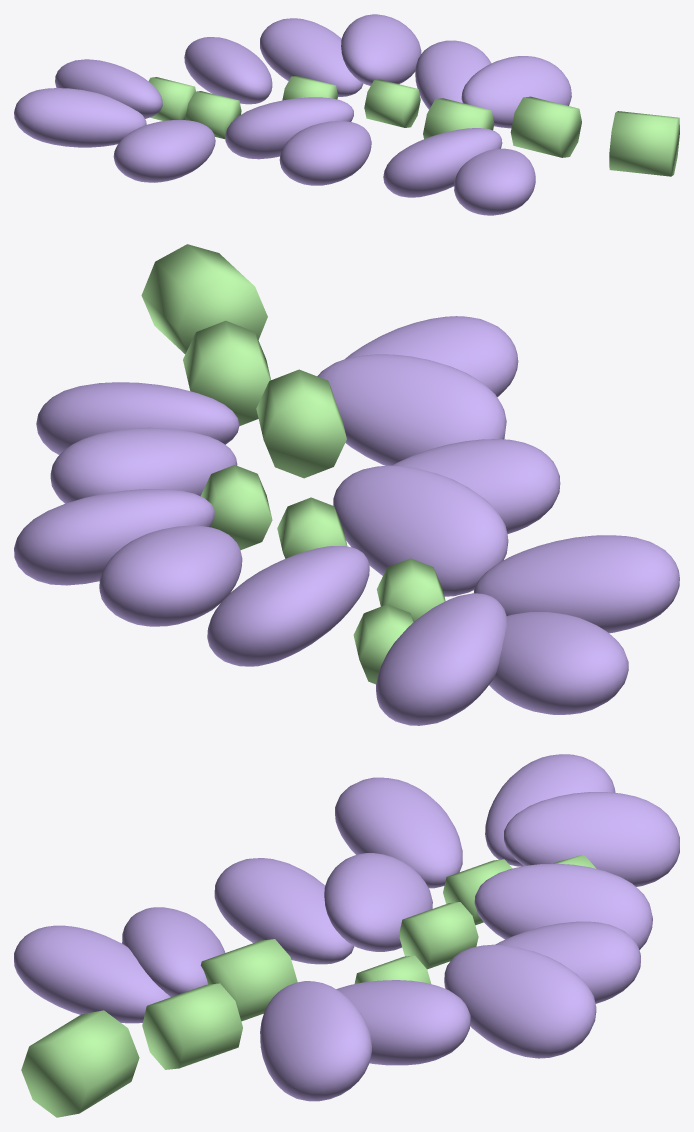
Rendered from LavandaSlice.fbx.
3 views of the same model, one above another, from view 1: azimuth 30°, elevation 25°; view 2: azimuth 150°, elevation 25°; view 3: azimuth 270°, elevation 25° (orthographic). The views are drawn at different scales.
Visible parts, largest first — view 1: Cube.049, Cylinder; view 2: Cube.049, Cylinder; view 3: Cube.049, Cylinder.
Part boxes in pixels (<box>): Cube.049: <box>14,14,571,215</box>; Cylinder: <box>148,76,679,176</box>; Cube.049: <box>14,316,679,725</box>; Cylinder: <box>141,244,445,684</box>; Cube.049: <box>14,754,679,1101</box>; Cylinder: <box>21,855,596,1117</box>.
Bounding box in the file's own units: 120 × 15.54 × 106.
